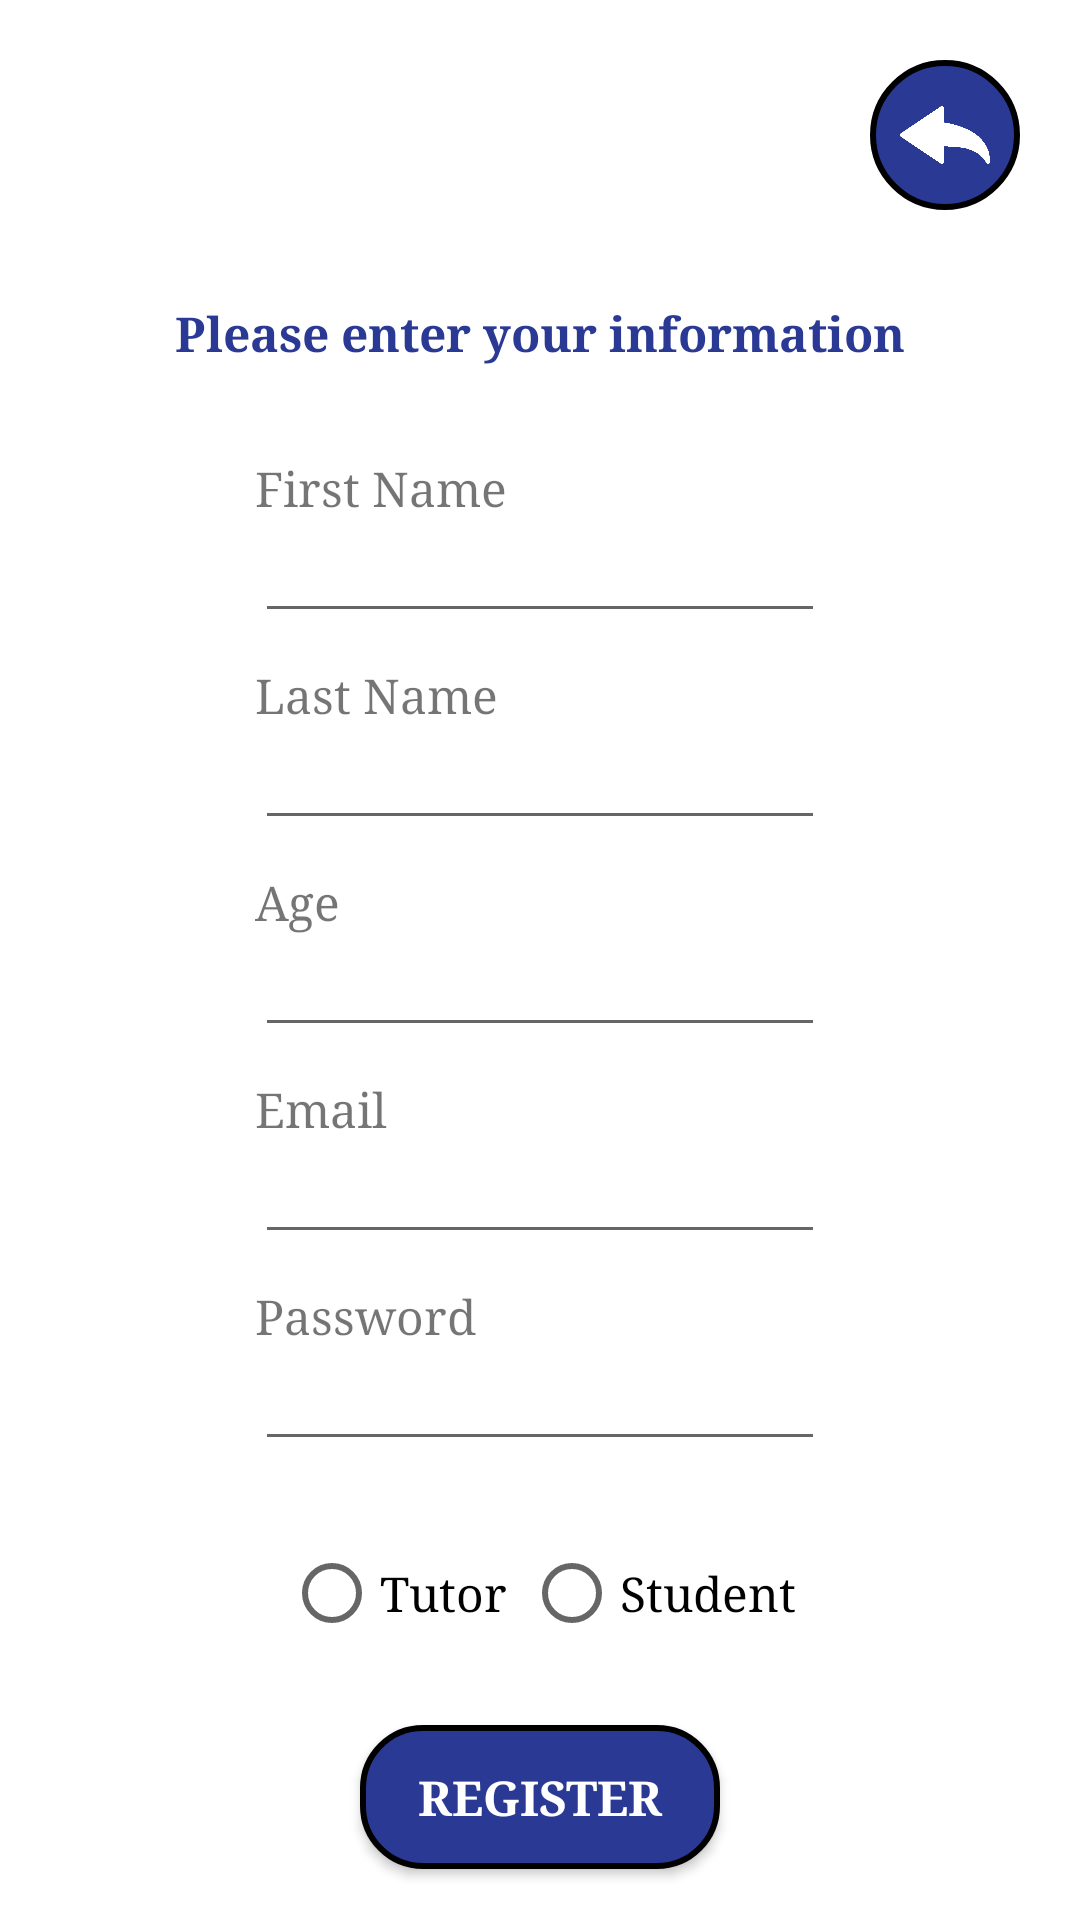

Locate icon controls on the screen. Image size 1080px×1920px, boxes as (x1, y1, x2, y2).
arrow: (870, 60, 1020, 210)
